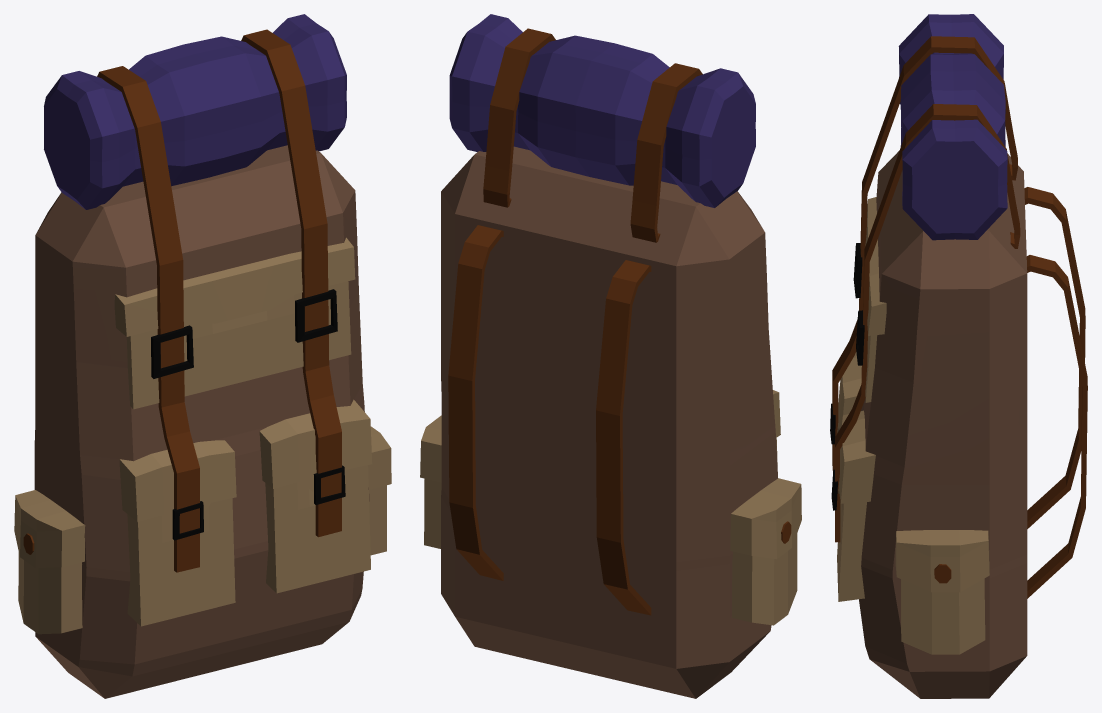
The model's file is hiking-pack-slate.glb.
3 views of the same model, side by side, from view 1: azimuth 30°, elevation 25°; view 2: azimuth 150°, elevation 25°; view 3: azimuth 270°, elevation 25° (orthographic). The views are drawn at different scales.
Visible parts, largest first — view 1: backpack_body.001; view 2: backpack_body.001; view 3: backpack_body.001.
Boxes of the visible parts, bbox=[...] form: backpack_body.001: bbox=[14, 14, 391, 698]; backpack_body.001: bbox=[420, 14, 801, 698]; backpack_body.001: bbox=[830, 14, 1087, 698].
Bounding box in the file's own units: 0.6932 × 1.14 × 0.4622.
